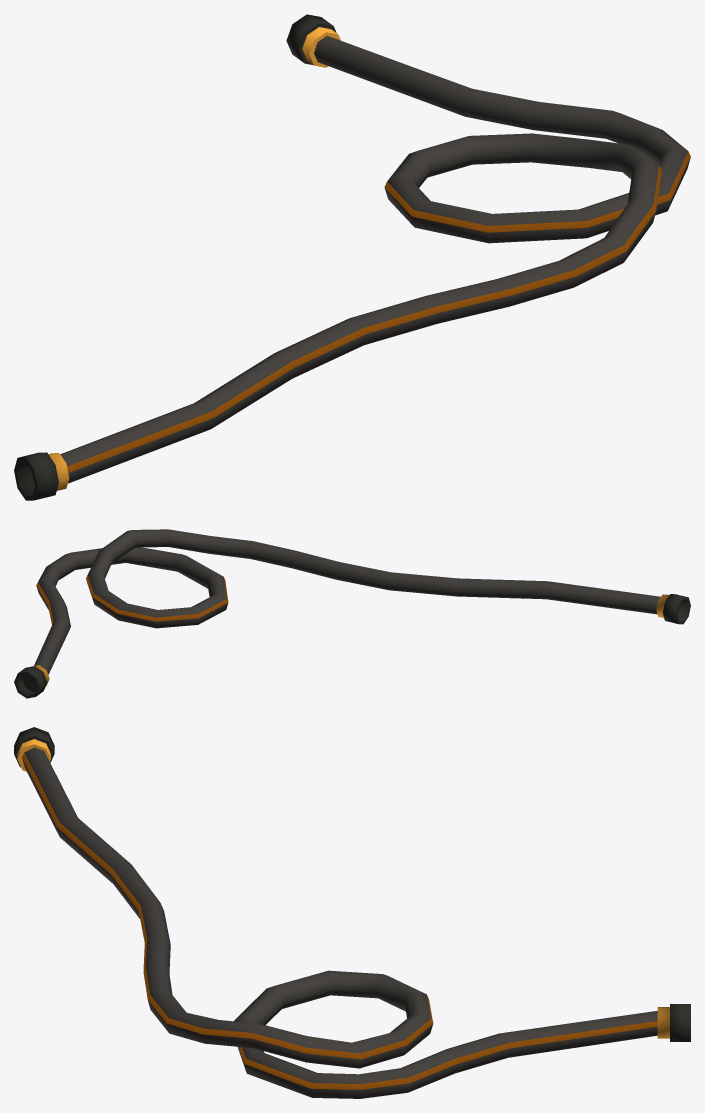
The model's file is Cable_2M_Curve_02.glb.
3 views of the same model, one above another, from view 1: azimuth 30°, elevation 25°; view 2: azimuth 150°, elevation 25°; view 3: azimuth 270°, elevation 25° (orthographic). The views are drawn at different scales.
Visible parts, largest first — view 1: Cable_2M_Curve_02; view 2: Cable_2M_Curve_02; view 3: Cable_2M_Curve_02.
Part boxes in pixels (x1,y1,x2,y2): Cable_2M_Curve_02: (14,14,690,500); Cable_2M_Curve_02: (14,529,690,698); Cable_2M_Curve_02: (14,727,690,1098).
Size of what is drawn, in the model's own units: 2.49 by 0.1799 by 2.06.
Materials: 2 (2 with a texture image).
